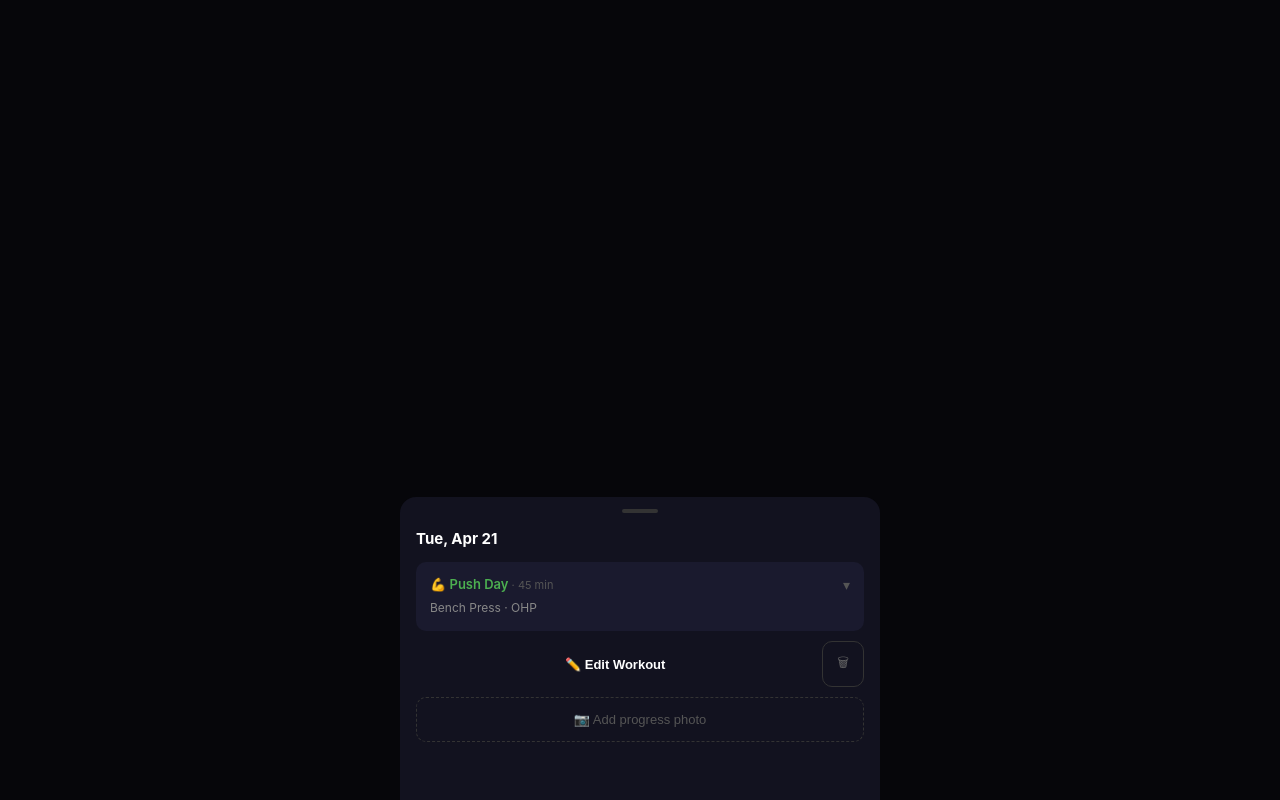
Test case: DaySheet › collapses set detail when workout card is tapped again
Click the element with test id "workout-card".
click(640, 596)  # box [416,562,864,631]
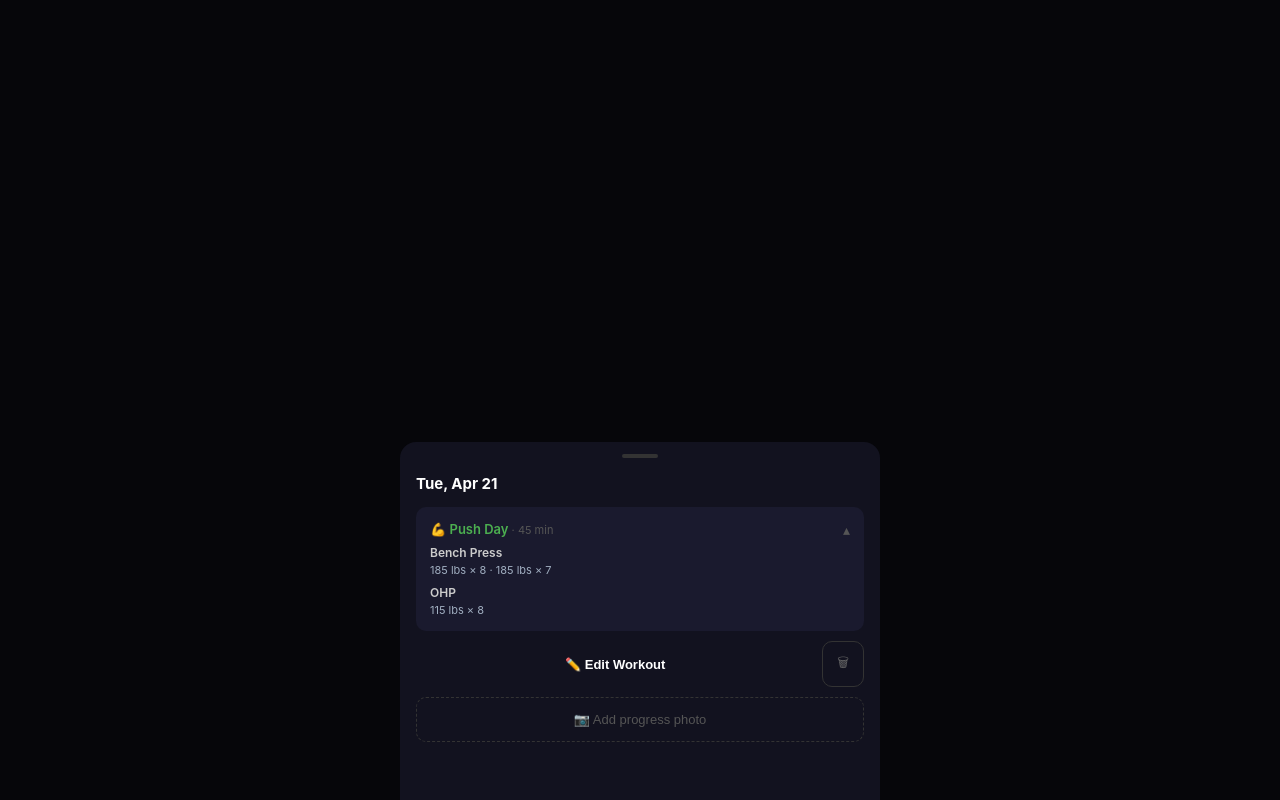
Click the element with test id "workout-card".
click(640, 569)  # box [416,507,864,631]
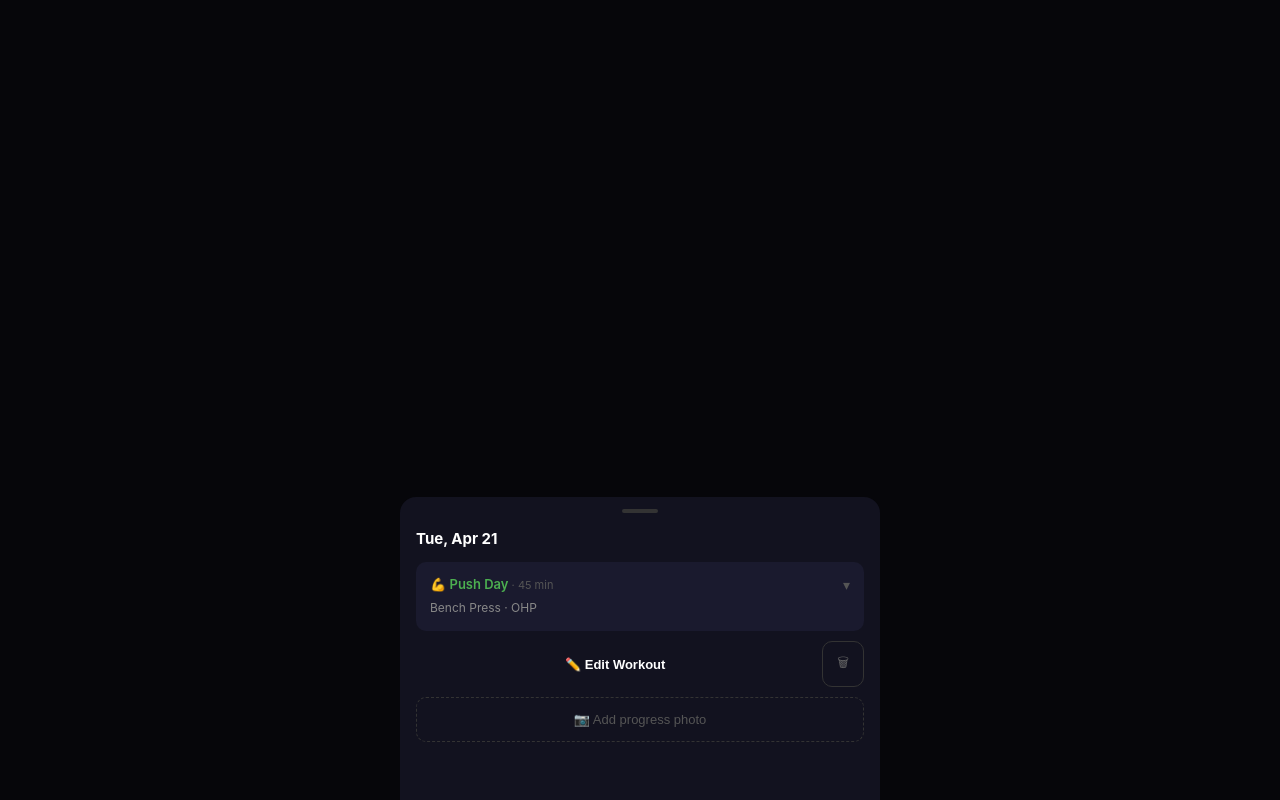
Check: the text "185" is gone
